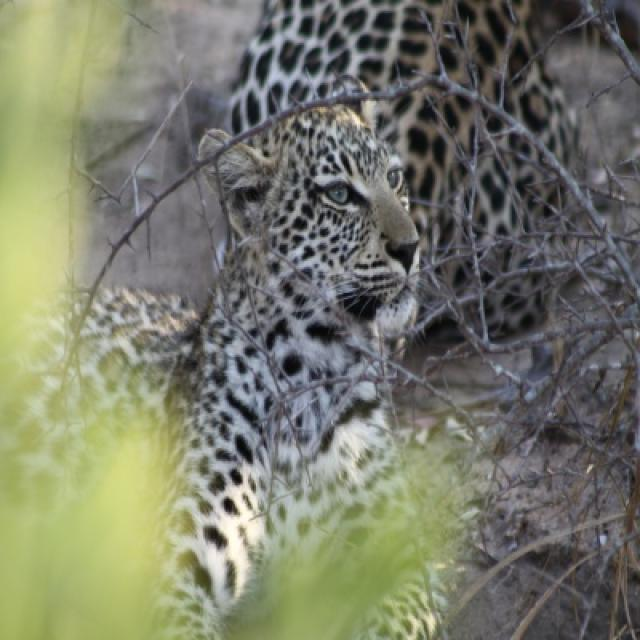Cheetah: (75, 107, 418, 638)
